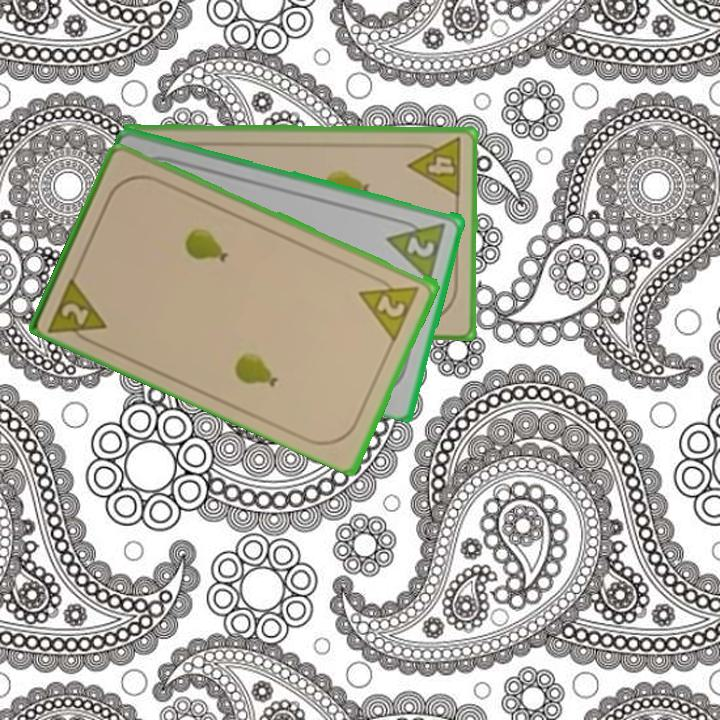2p: (355, 271, 424, 342), (384, 213, 449, 282), (58, 298, 93, 328)
4p: (405, 135, 465, 200)
